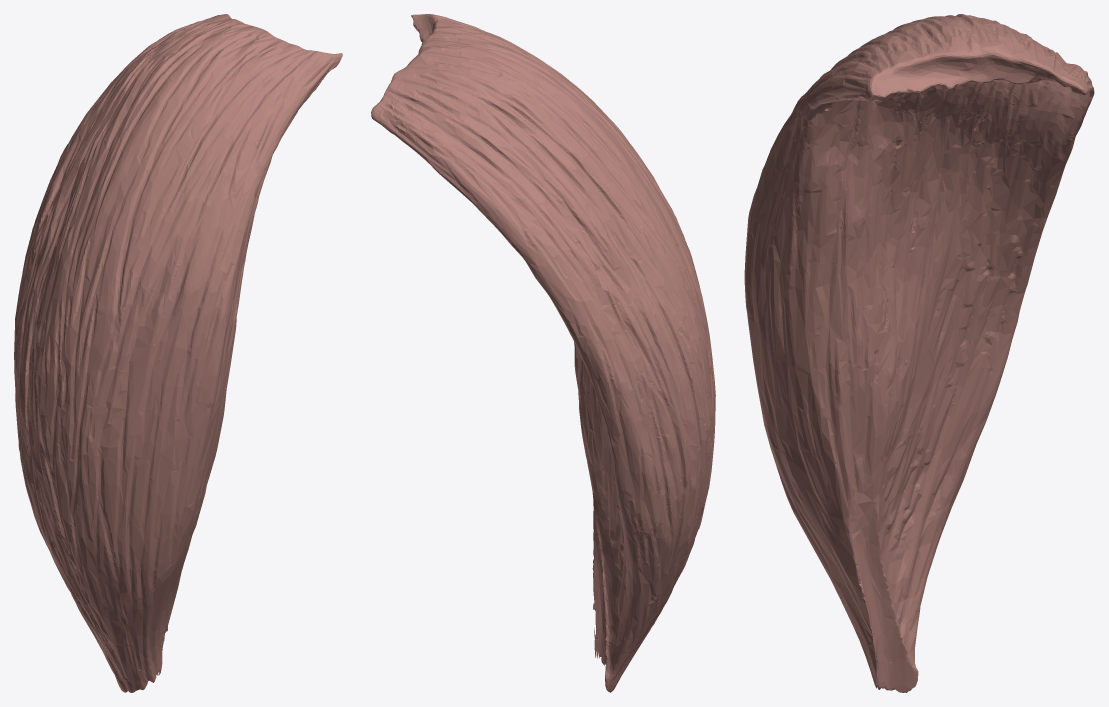
Rendered from FMA34683.glb.
3 views of the same model, side by side, from view 1: azimuth 30°, elevation 25°; view 2: azimuth 150°, elevation 25°; view 3: azimuth 270°, elevation 25° (orthographic). The views are drawn at different scales.
Visible parts, largest first — view 1: B.FMA34683; view 2: B.FMA34683; view 3: B.FMA34683.
Boxes of the visible parts, box(x1,y1,x2,y2) form: B.FMA34683: box(14, 14, 342, 692); B.FMA34683: box(371, 14, 715, 692); B.FMA34683: box(744, 14, 1094, 692).
Size of the model in its own units: 0.0728 by 0.1429 by 0.0615.
